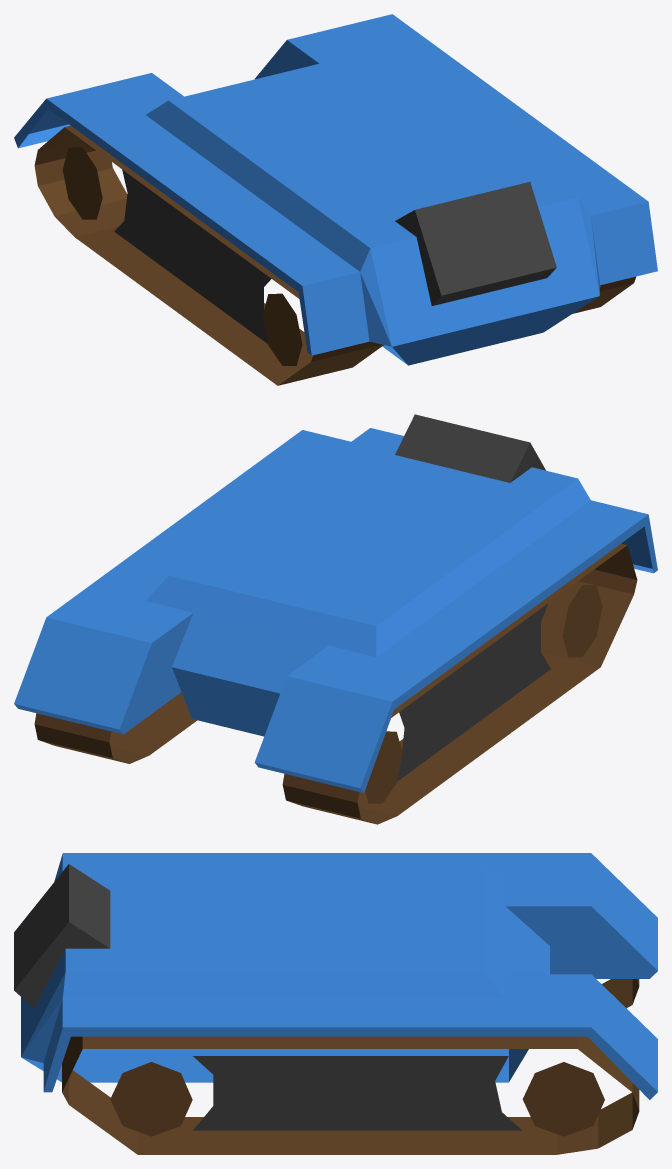
Rendered from tank.FBX.
3 views of the same model, one above another, from view 1: azimuth 30°, elevation 25°; view 2: azimuth 150°, elevation 25°; view 3: azimuth 270°, elevation 25° (orthographic). The views are drawn at different scales.
Parts seen in each view (by area): view 1: VIFS002, VIFS003, VIFS001; view 2: VIFS002, VIFS001, VIFS003; view 3: VIFS002, VIFS001, VIFS003.
Part boxes in pixels (box(x1,y1,x2,y2)): VIFS002: box(14, 14, 657, 365); VIFS003: box(114, 169, 556, 343); VIFS001: box(34, 125, 635, 385); VIFS002: box(14, 428, 657, 792); VIFS001: box(34, 543, 637, 824); VIFS003: box(395, 414, 550, 781); VIFS002: box(21, 853, 657, 1099); VIFS001: box(62, 979, 639, 1154); VIFS003: box(14, 864, 521, 1130).
Bounding box in the file's own units: 1.2 × 0.58 × 1.87.
